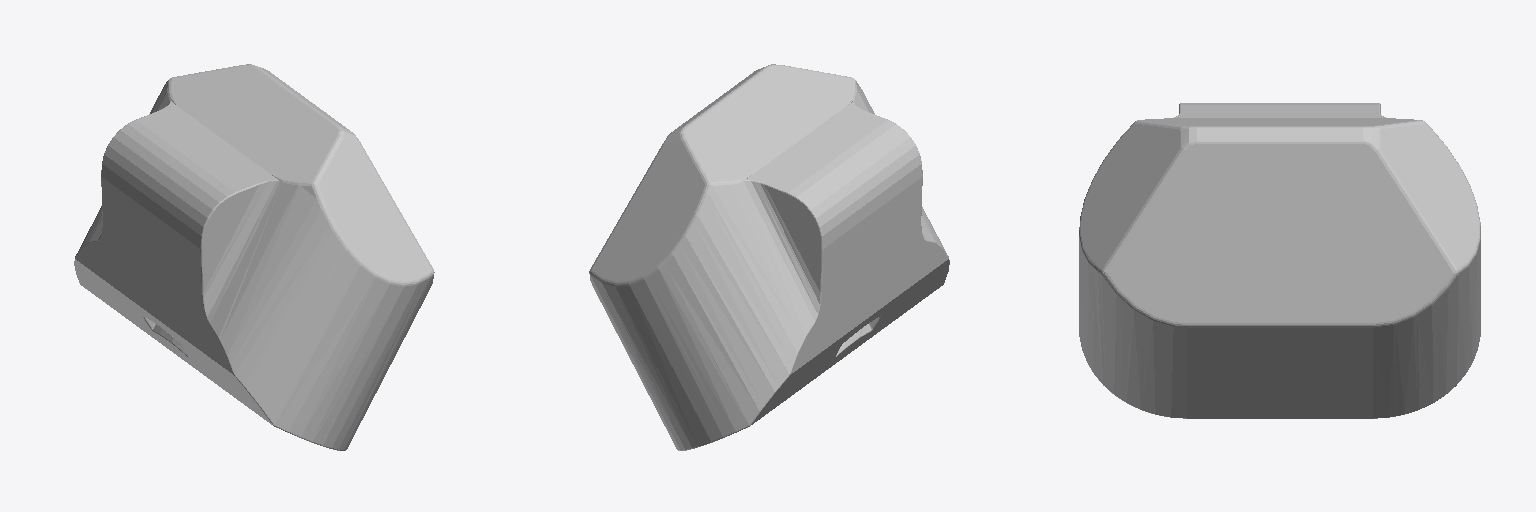
Rendered from head_2.obj.
3 views of the same model, side by side, from view 1: azimuth 30°, elevation 25°; view 2: azimuth 150°, elevation 25°; view 3: azimuth 270°, elevation 25° (orthographic).
Visible parts, largest first — view 1: head_2; view 2: head_2; view 3: head_2.
Part boxes in pixels (x1,y1,x2,y2): head_2: (74, 64, 434, 450); head_2: (589, 64, 949, 450); head_2: (1079, 103, 1480, 418).
Bounding box in the file's own units: 0.1569 × 0.2128 × 0.2598.